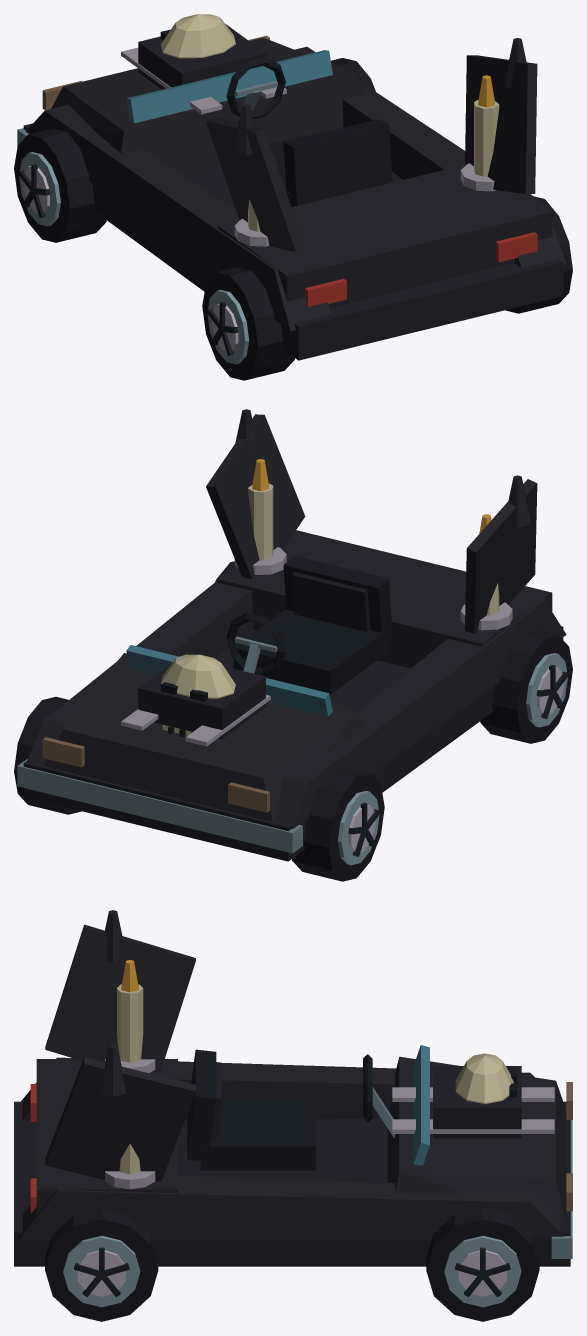
Rendered from kart.glb.
The picture shows the model from 3 angles, top to bottom: view 1: azimuth 30°, elevation 25°; view 2: azimuth 150°, elevation 25°; view 3: azimuth 270°, elevation 25°; orthographic projection.
Visible parts, largest first — view 1: identity-muscle-car-muscle-car-road-car-body, identity-muscle-car-motif-bat-fins, identity-muscle-car-driver-cockpit, wheel-front-left, wheel-rear-left, identity-muscle-car-motif-candles, identity-muscle-car-motif-skull, wheel-rear-right, wheel-front-right; view 2: identity-muscle-car-muscle-car-road-car-body, identity-muscle-car-driver-cockpit, identity-muscle-car-motif-bat-fins, wheel-front-left, wheel-rear-left, identity-muscle-car-motif-candles, identity-muscle-car-motif-skull, wheel-front-right; view 3: identity-muscle-car-muscle-car-road-car-body, identity-muscle-car-motif-bat-fins, identity-muscle-car-driver-cockpit, wheel-front-right, wheel-rear-right, identity-muscle-car-motif-candles, identity-muscle-car-motif-skull.
Part boxes in pixels (x1=…): identity-muscle-car-muscle-car-road-car-body: x1=17, y1=24, x2=566, y2=360; identity-muscle-car-motif-bat-fins: x1=206, y1=38, x2=537, y2=252; identity-muscle-car-driver-cockpit: x1=226, y1=57, x2=392, y2=206; wheel-front-left: x1=14, y1=128, x2=106, y2=242; wheel-rear-left: x1=202, y1=267, x2=294, y2=380; identity-muscle-car-motif-candles: x1=234, y1=75, x2=499, y2=246; identity-muscle-car-motif-skull: x1=160, y1=14, x2=235, y2=58; wheel-rear-right: x1=505, y1=196, x2=572, y2=313; wheel-front-right: x1=331, y1=58, x2=375, y2=91; identity-muscle-car-muscle-car-road-car-body: x1=17, y1=530, x2=566, y2=861; identity-muscle-car-driver-cockpit: x1=226, y1=555, x2=392, y2=694; identity-muscle-car-motif-bat-fins: x1=206, y1=409, x2=537, y2=633; wheel-front-left: x1=292, y1=767, x2=384, y2=881; wheel-rear-left: x1=480, y1=630, x2=572, y2=743; identity-muscle-car-motif-candles: x1=234, y1=459, x2=512, y2=630; identity-muscle-car-motif-skull: x1=160, y1=654, x2=235, y2=736; wheel-front-right: x1=14, y1=696, x2=81, y2=814; identity-muscle-car-muscle-car-road-car-body: x1=14, y1=1045, x2=572, y2=1266; identity-muscle-car-motif-bat-fins: x1=45, y1=910, x2=195, y2=1181; identity-muscle-car-driver-cockpit: x1=187, y1=1049, x2=395, y2=1170; wheel-front-right: x1=426, y1=1207, x2=539, y2=1321; wheel-rear-right: x1=45, y1=1208, x2=158, y2=1321; identity-muscle-car-motif-candles: x1=105, y1=960, x2=155, y2=1189; identity-muscle-car-motif-skull: x1=455, y1=1053, x2=516, y2=1104.
Size of the model in its own units: 2.07 by 1.55 by 2.96.
